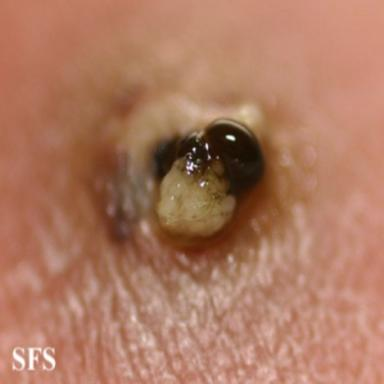Tungiasis: (154, 118, 264, 249)
